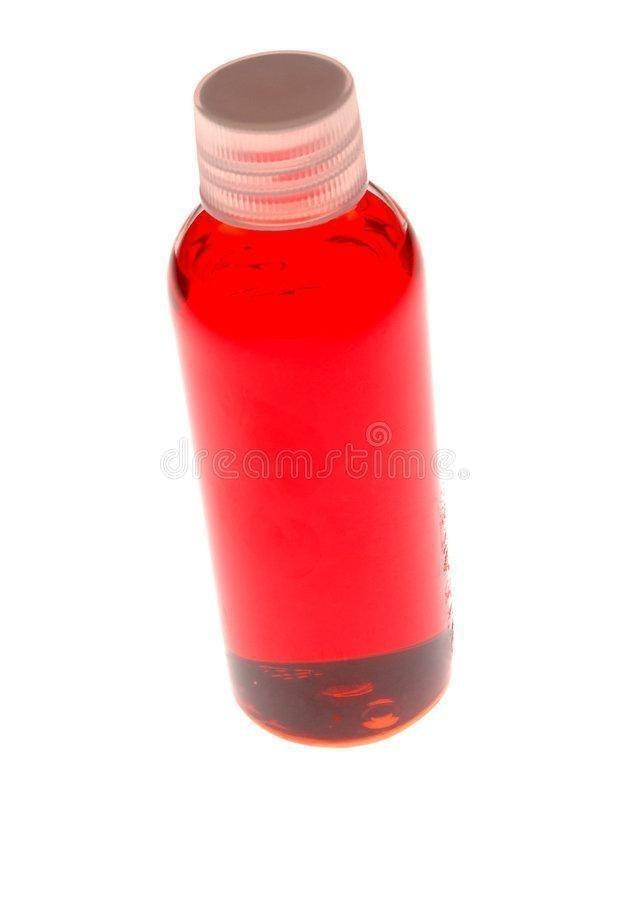bottle-glass: (163, 42, 457, 751)
